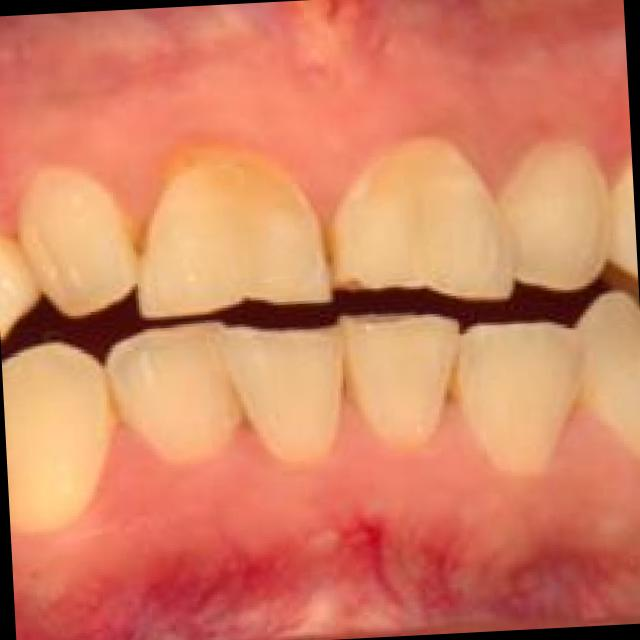karies: (172, 156, 294, 213), (312, 210, 349, 283), (433, 356, 468, 408), (126, 212, 154, 273), (330, 344, 358, 400)
